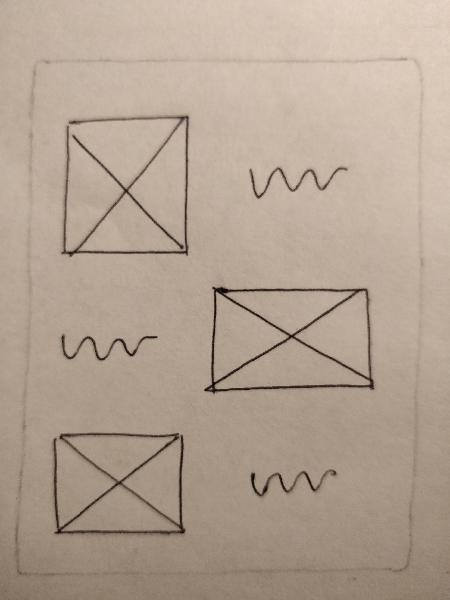image: (199, 279, 386, 403), (54, 109, 198, 264), (43, 424, 194, 541)
text: (237, 146, 359, 213), (49, 316, 164, 370), (231, 457, 353, 507)
